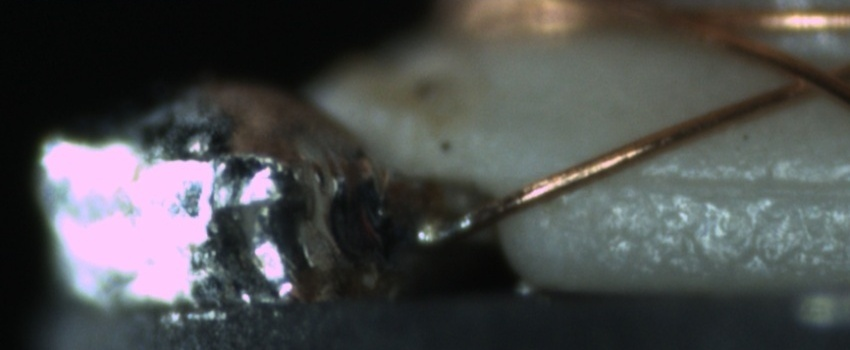CL: (770, 52, 846, 101)
DL: (605, 150, 846, 217)
